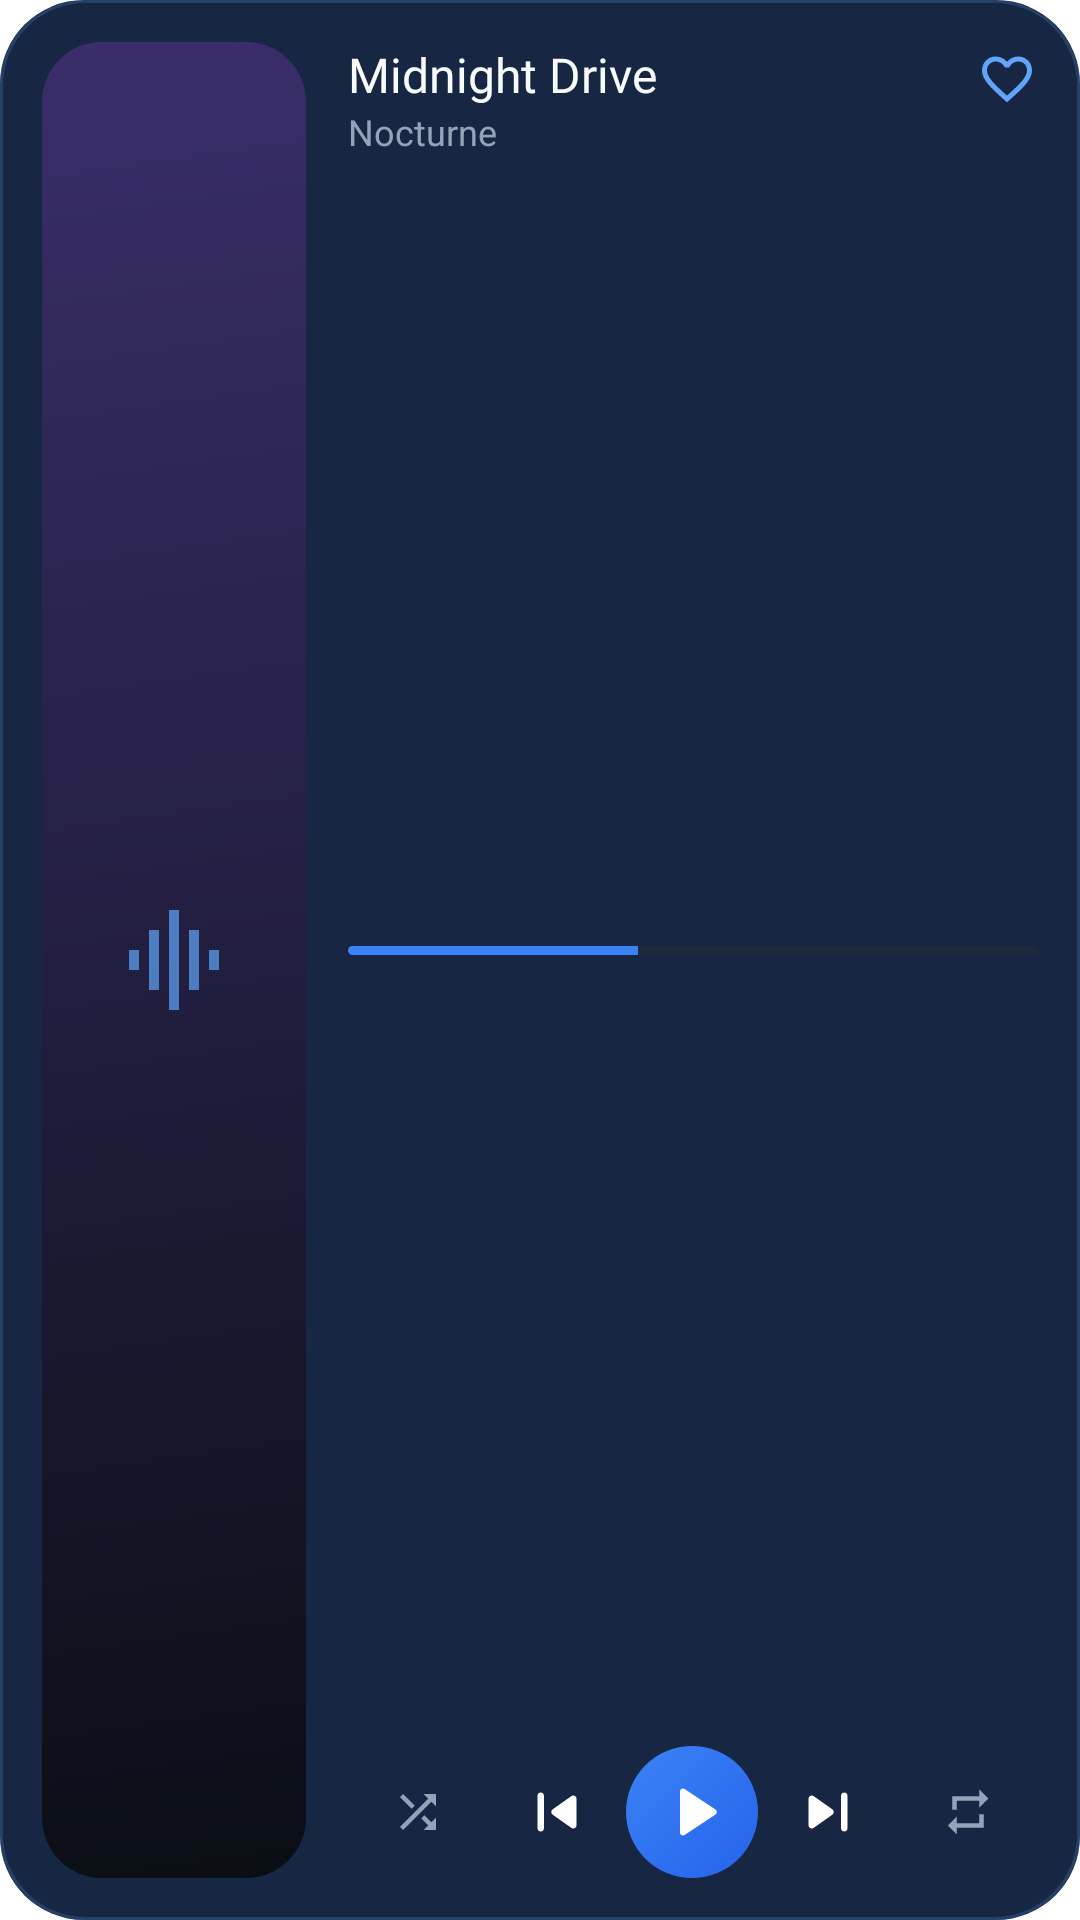

Screen size 1080*1920. Icon name, then its box in pixels as rect(x1, y1, x2, y2):
widget next: rect(808, 1792, 848, 1832)
widget play: rect(626, 1746, 758, 1878)
widget previous: rect(537, 1792, 577, 1832)
widget repeat: rect(948, 1790, 988, 1834)
widget shuffle: rect(400, 1794, 436, 1830)
